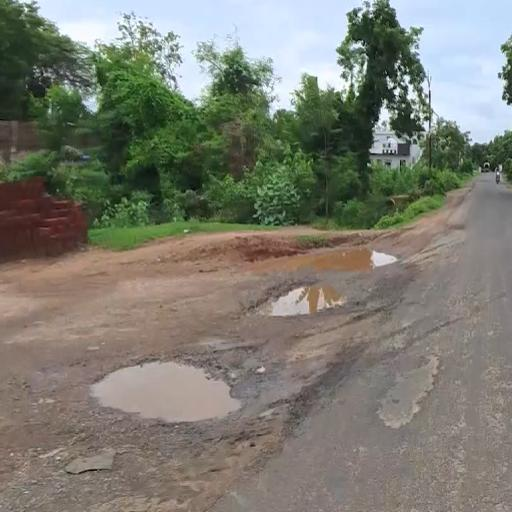edge_damage: (269, 336, 366, 443)
pothole: (63, 323, 301, 492), (341, 330, 462, 462), (232, 242, 354, 353)
